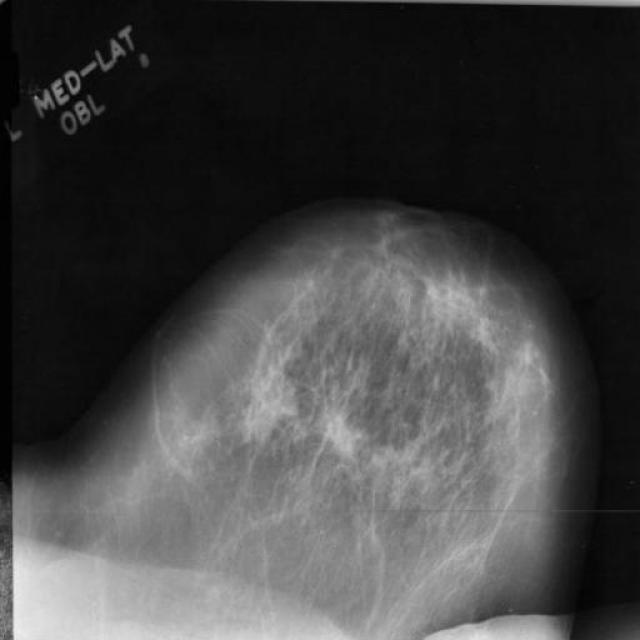cancer: (310, 406, 362, 463)
